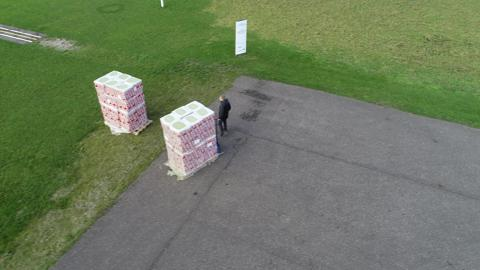RockwoolPallet: (93, 69, 150, 135)
